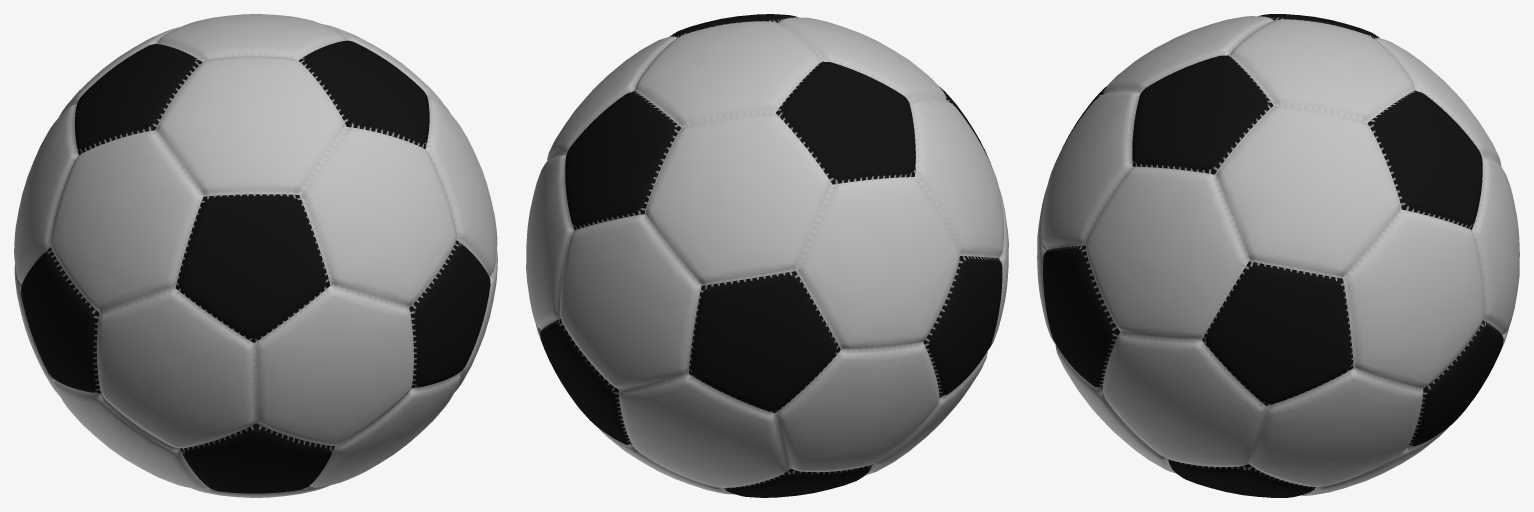
Rendered from Football.glb.
3 renders of one model, left to right at view 1: azimuth 30°, elevation 25°; view 2: azimuth 150°, elevation 25°; view 3: azimuth 270°, elevation 25°, orthographic.
Visible parts, largest first — view 1: node_id170; view 2: node_id170; view 3: node_id170.
Boxes of the visible parts, left/top/right/bottom form: node_id170: left=14, top=14, right=497, bottom=497; node_id170: left=526, top=14, right=1008, bottom=497; node_id170: left=1037, top=14, right=1519, bottom=497.
Size of the model in its own units: 0.5122 by 0.5129 by 0.512.
1 material, 1 textured.
